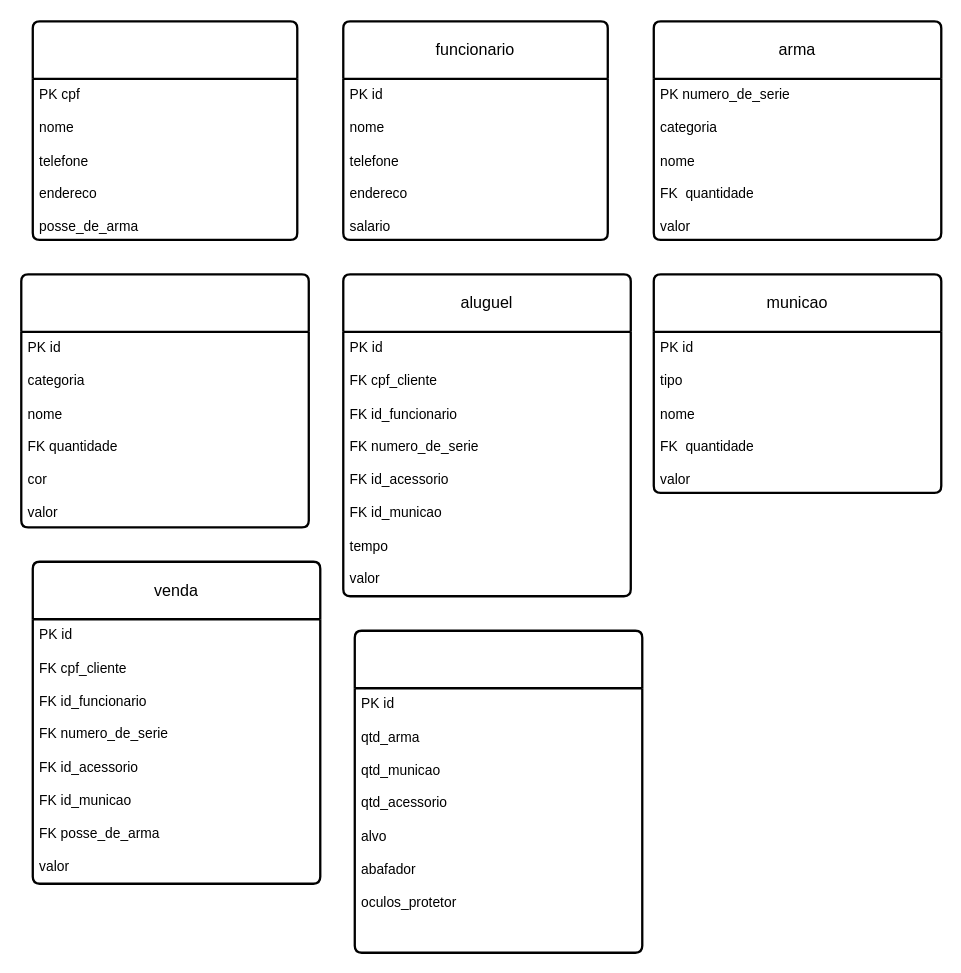
Image size: 961x973. Some labels were removed from this diagram. Each missing label, with the box of its shape:
acessorio: (20, 273, 309, 528)
cliente: (31, 20, 298, 240)
estoque: (353, 629, 643, 953)
